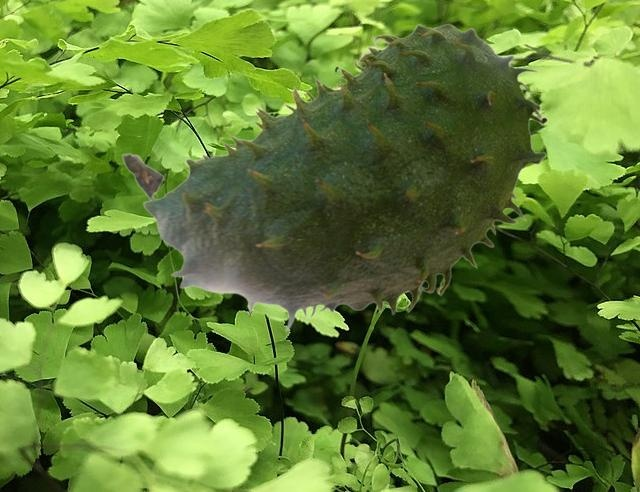guyabano: (121, 23, 547, 331)
